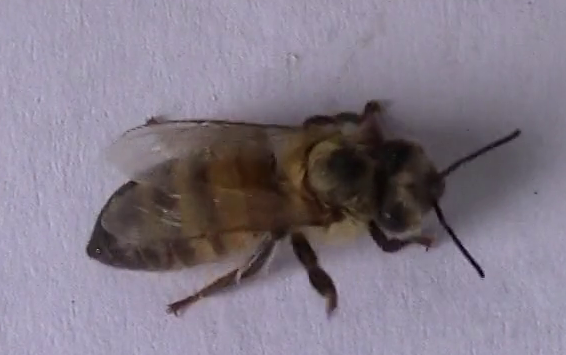Varroa destructor: (358, 111, 385, 160)
